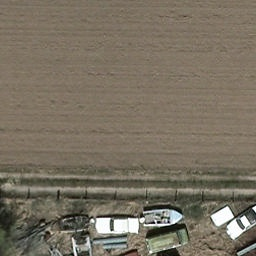boat: (141, 210, 184, 228), (53, 214, 89, 232)
car: (94, 218, 143, 235)
van: (143, 228, 191, 253)
